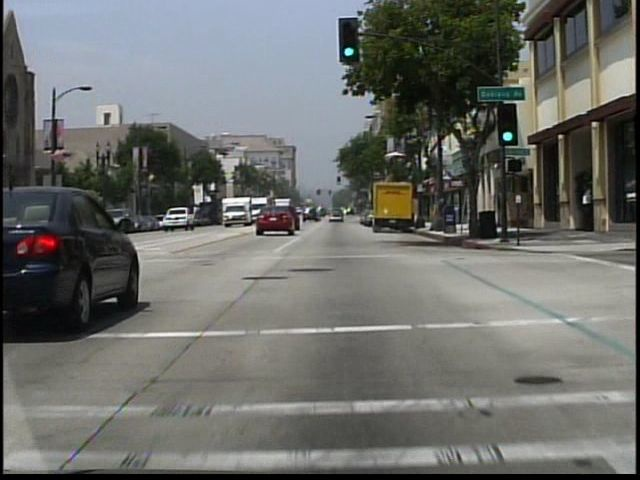person: (580, 189, 593, 231)
